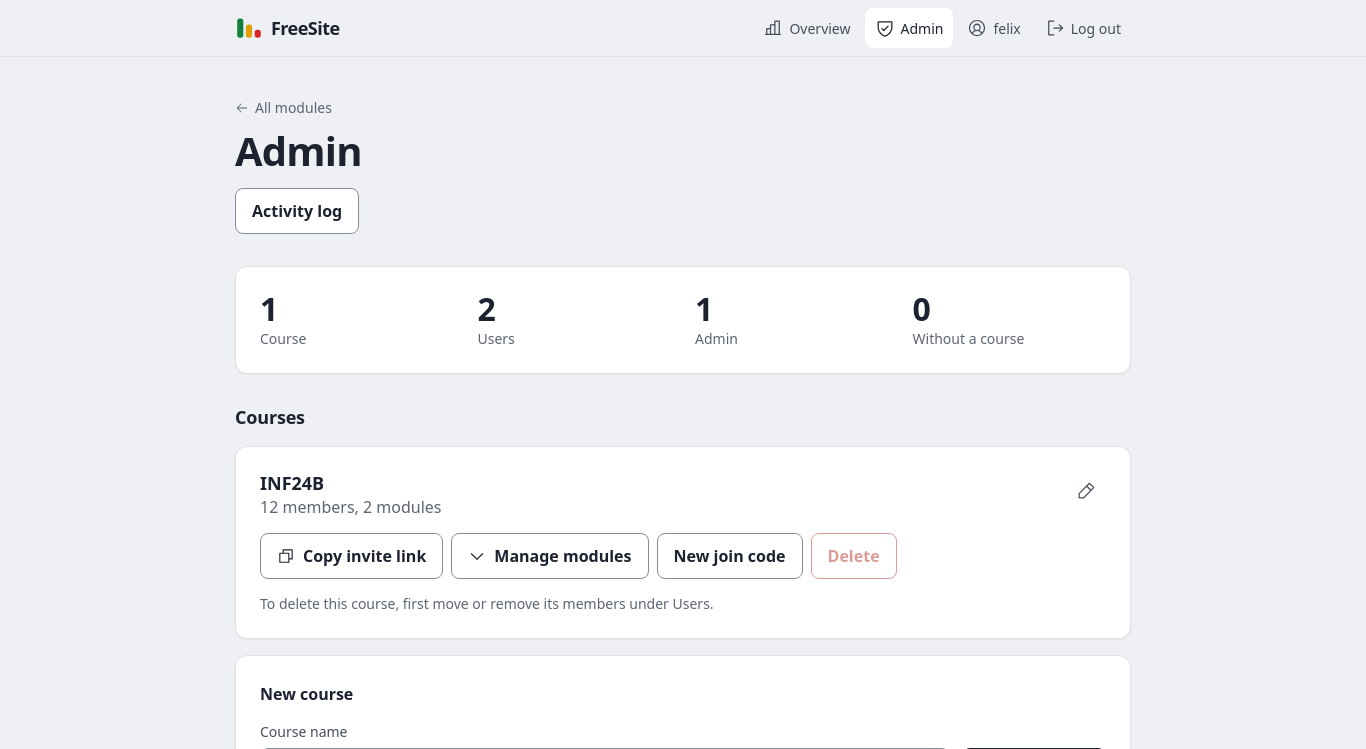
Scenario: AdminPage › opens and closes the modules of a course with the same button
The image size is (1366, 749).
Click the button "Manage modules" at (550, 556), box [451,533,648,579]
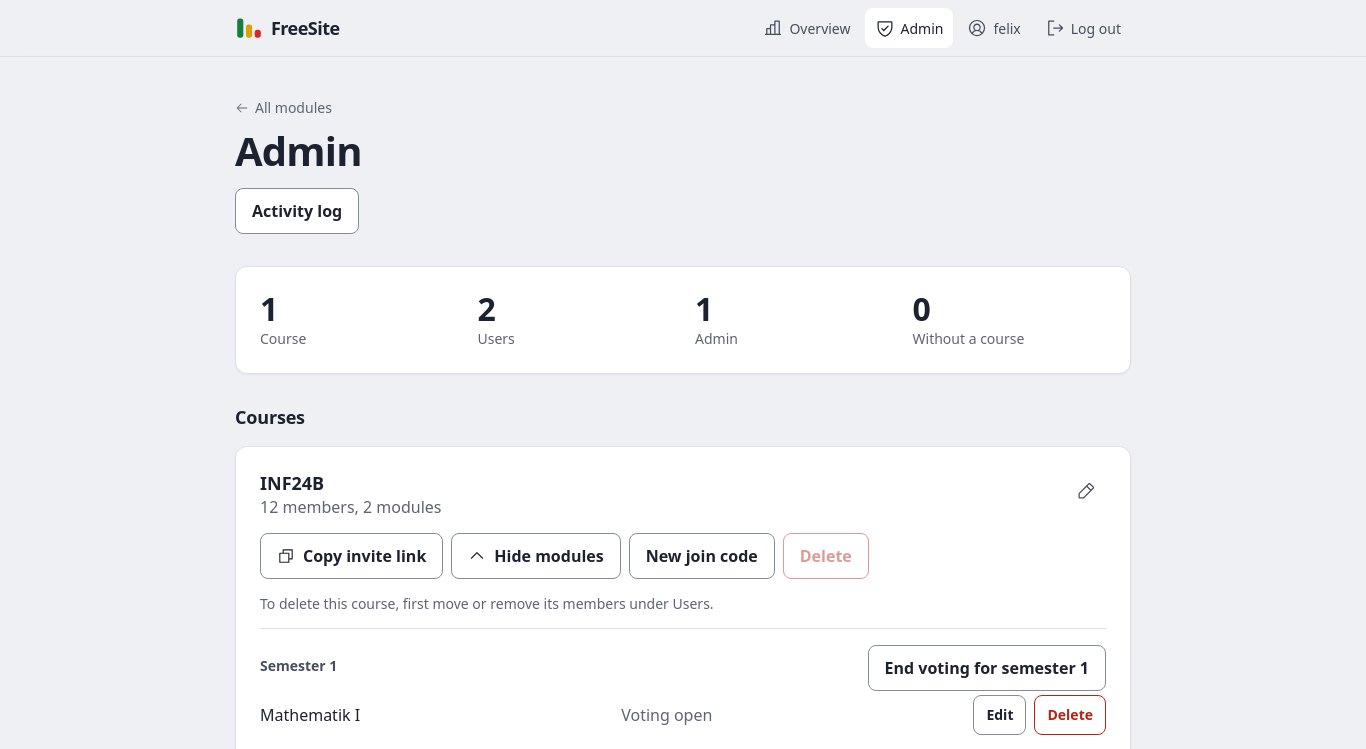
Check: the button "Hide modules" is expanded
Click the button "Hide modules" at (536, 556), box [451,533,621,579]
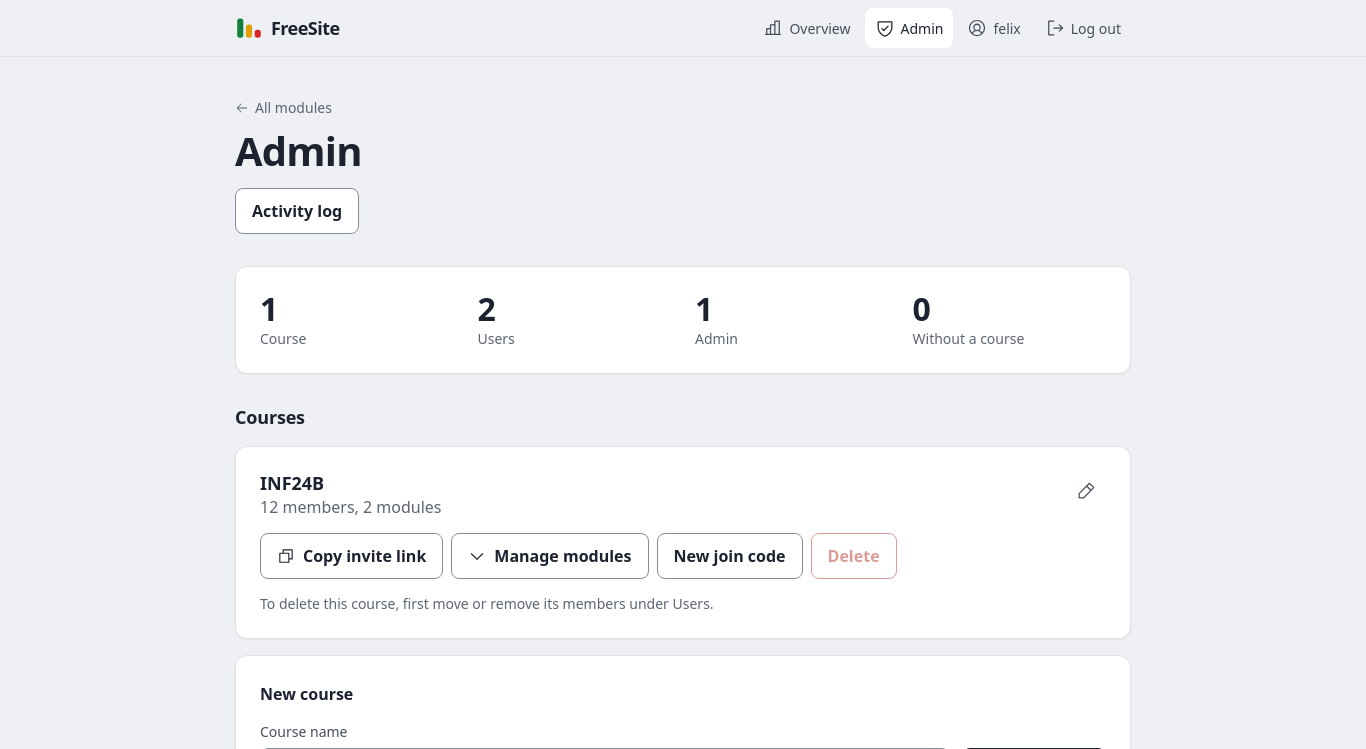
Check: the button "Manage modules" is collapsed, box [451,533,648,579]
